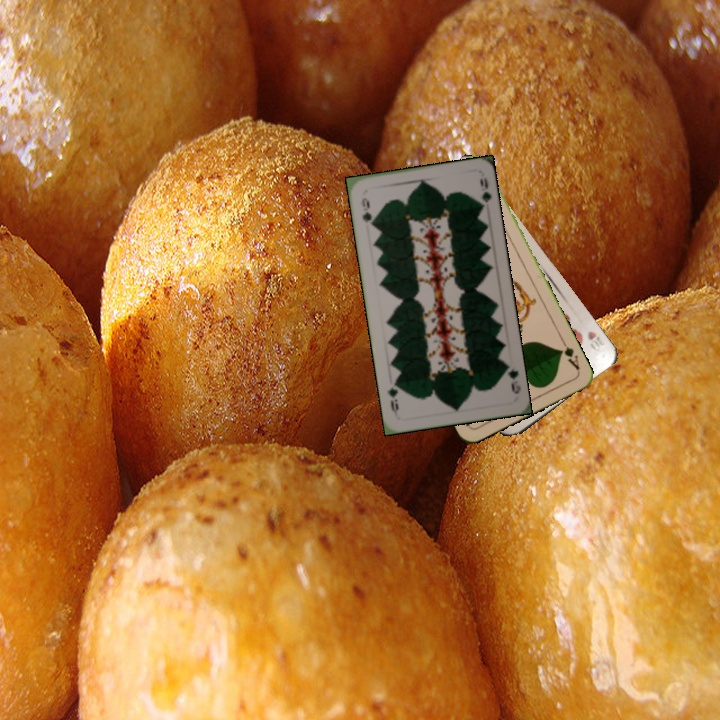G9: (500, 359, 523, 397), (358, 194, 376, 230)
GA: (555, 336, 583, 374)
H10: (583, 327, 607, 355)
